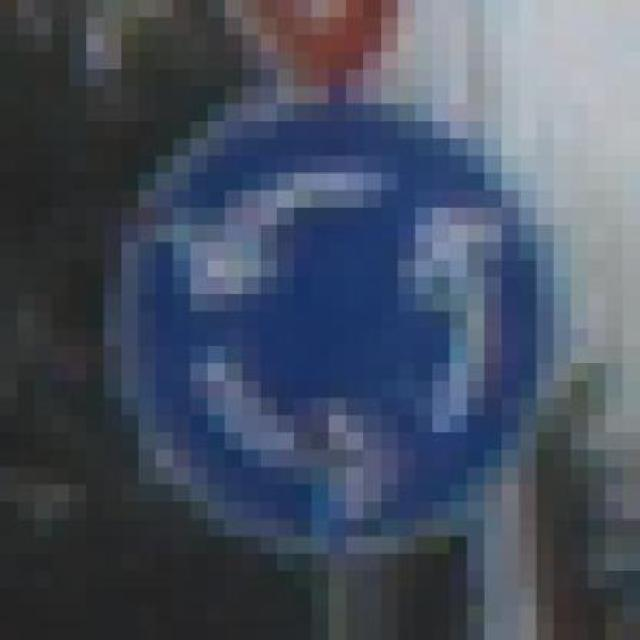Round-About: (69, 86, 571, 588)
